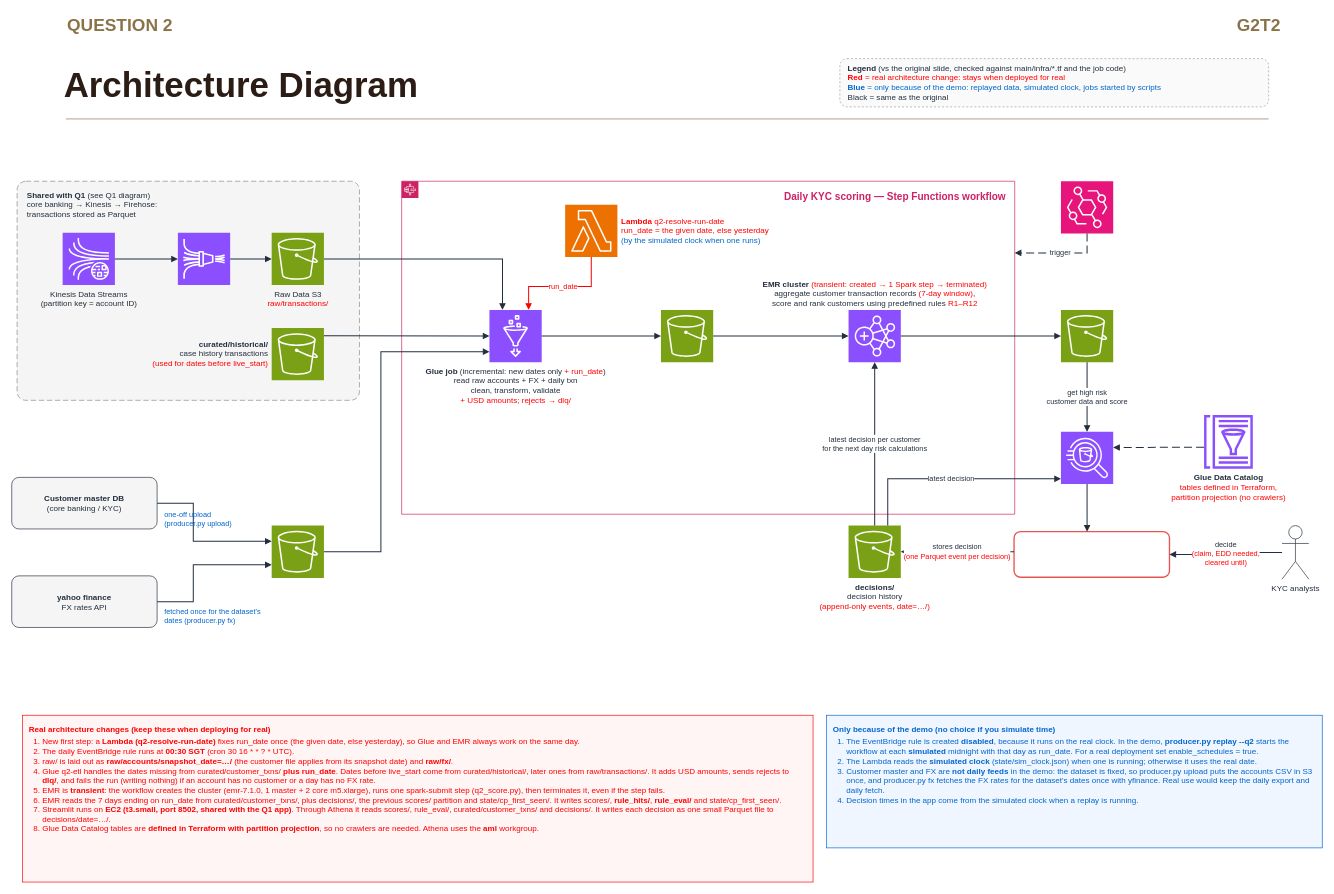
The diagram is 1334 pixels wide and 894 high, and some of its shapes have lost their labels. Here are the shapes that lost their labels. From the top down, the centre of each, then its label:
At (x=1086, y=207): "EventBridge schedule (daily , 00:30 SGT ; created disabled )".
At (x=203, y=258): "Firehose (→ Parquet)".
At (x=686, y=335): "curated/customer_txns/ txn, customer_id + USD by date".
At (x=1086, y=335): "scores/run_date=…/ score + rules fired per customer + rule_hits/, rule_eval/".
At (x=1086, y=457): "Athena".
At (x=297, y=551): "raw/ accounts + FX (CSV) accounts/snapshot_date=…/, fx/".
At (x=1091, y=554): "Streamlit on EC2 :8502 prioritised EDD queue".
